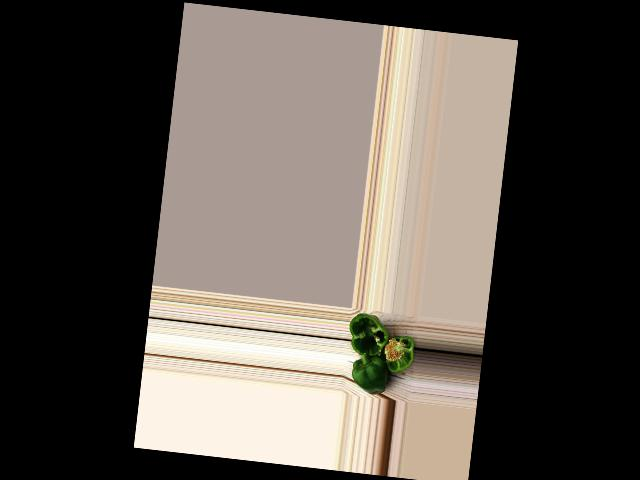bell_pepper: (378, 326, 416, 377)
